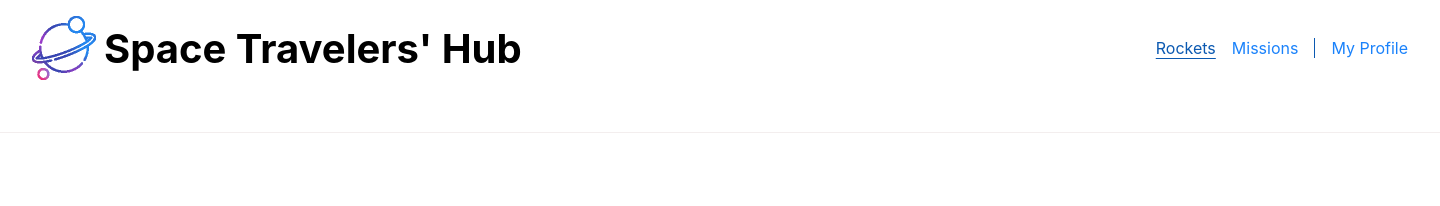
Scenario: Navigation links - › clicking on "Missions" link loads the Missions page
Click the link with test id "navlink-missions-page".
click(1265, 48)  # box [1232,38,1298,58]
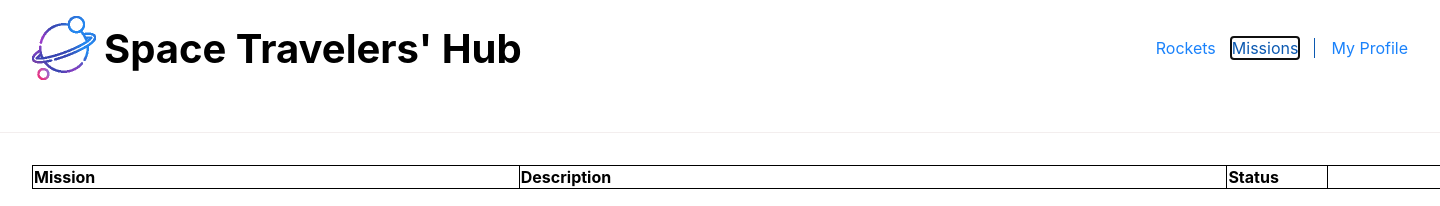
Check: the element with test id "missions-page-content" is shown, box [0,165,1439,189]
